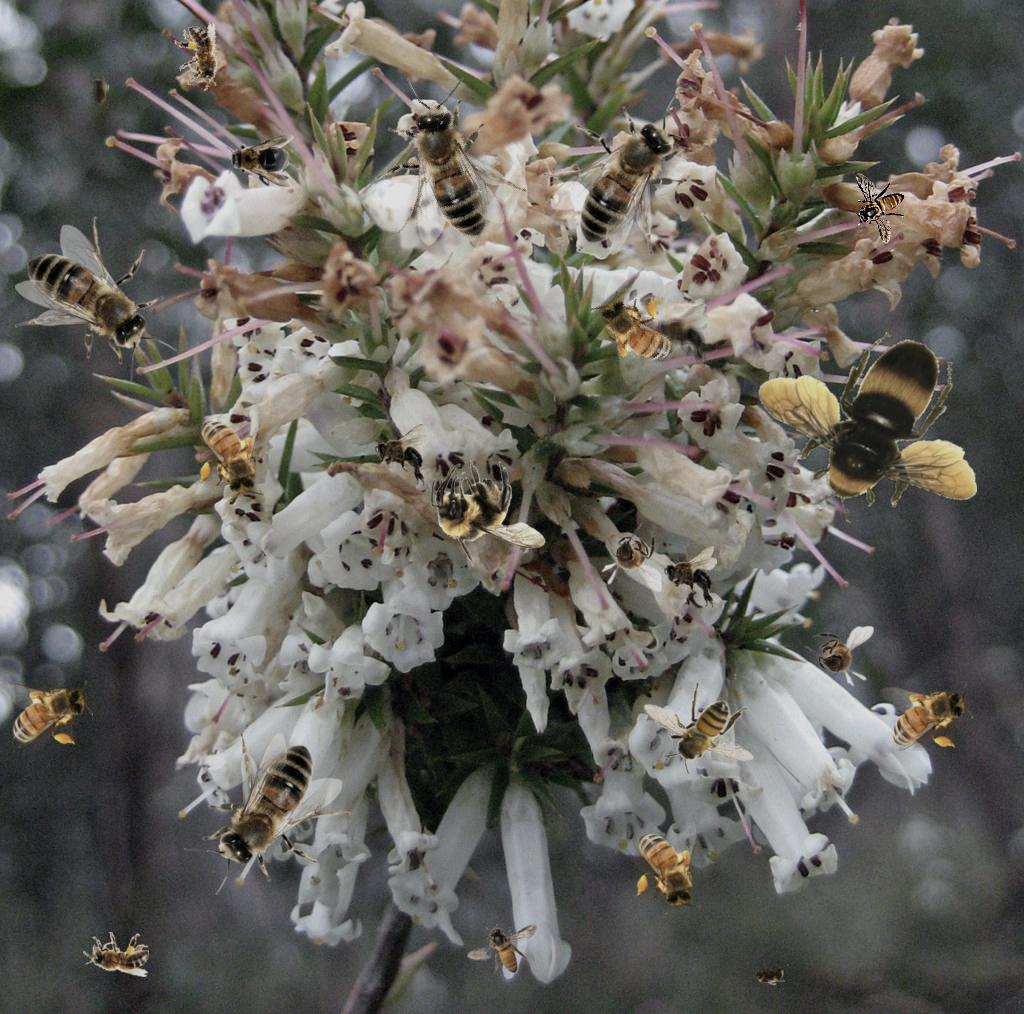Bee: (330, 51, 559, 281), (757, 332, 977, 523), (15, 216, 177, 383), (184, 733, 351, 895), (542, 93, 709, 255), (431, 460, 546, 567), (586, 277, 686, 390), (643, 681, 754, 775), (633, 821, 701, 914), (196, 408, 264, 501), (0, 680, 93, 748), (880, 683, 973, 751), (170, 21, 230, 96), (804, 626, 874, 687), (601, 522, 662, 592), (855, 173, 905, 244), (467, 924, 538, 974), (226, 135, 294, 187), (664, 546, 717, 608), (375, 424, 428, 486), (656, 304, 709, 366), (83, 932, 149, 977), (749, 964, 789, 986), (88, 72, 110, 112)
